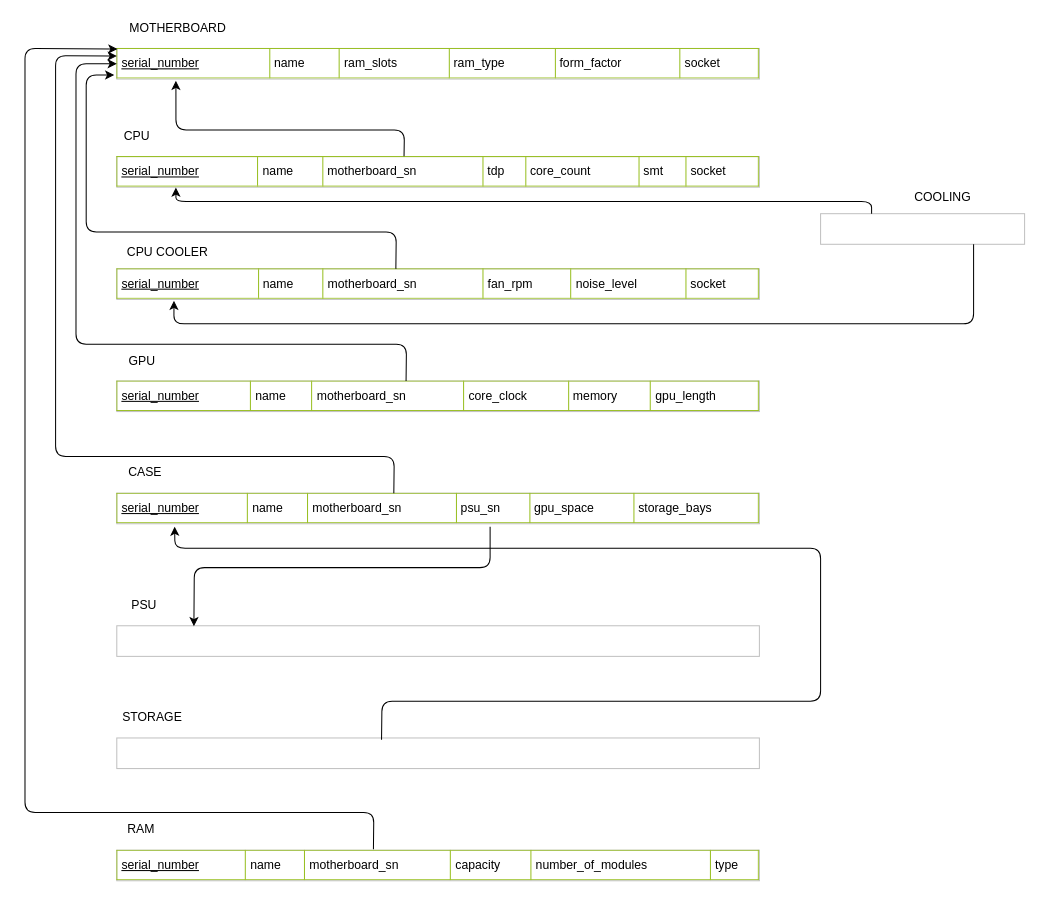
Image size: 1042x899. Some labels were removed from this diagram. Each missing label, with the box of its shape:
cpu_sn cooler_sn: (820, 213, 1025, 244)
serial_number name case_sn capacity interface form_factor: (116, 737, 759, 769)
serial_number name wattage modular efficiency_rating form_factor: (116, 625, 759, 656)
